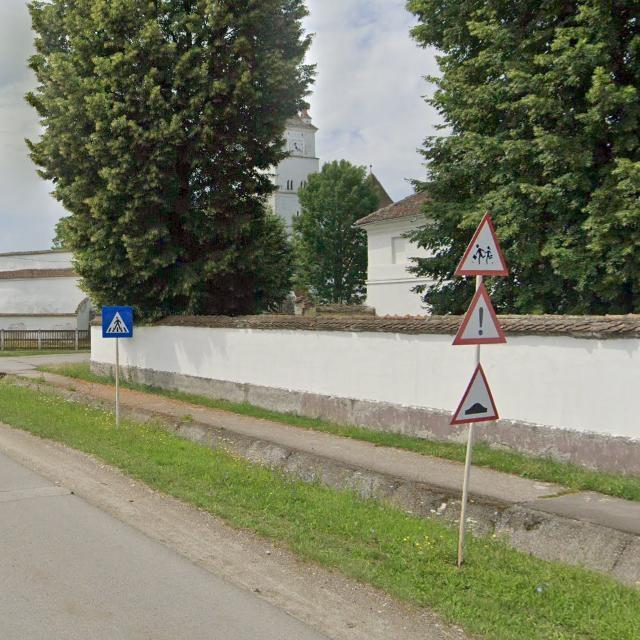info_crosswalk: (101, 305, 134, 338)
